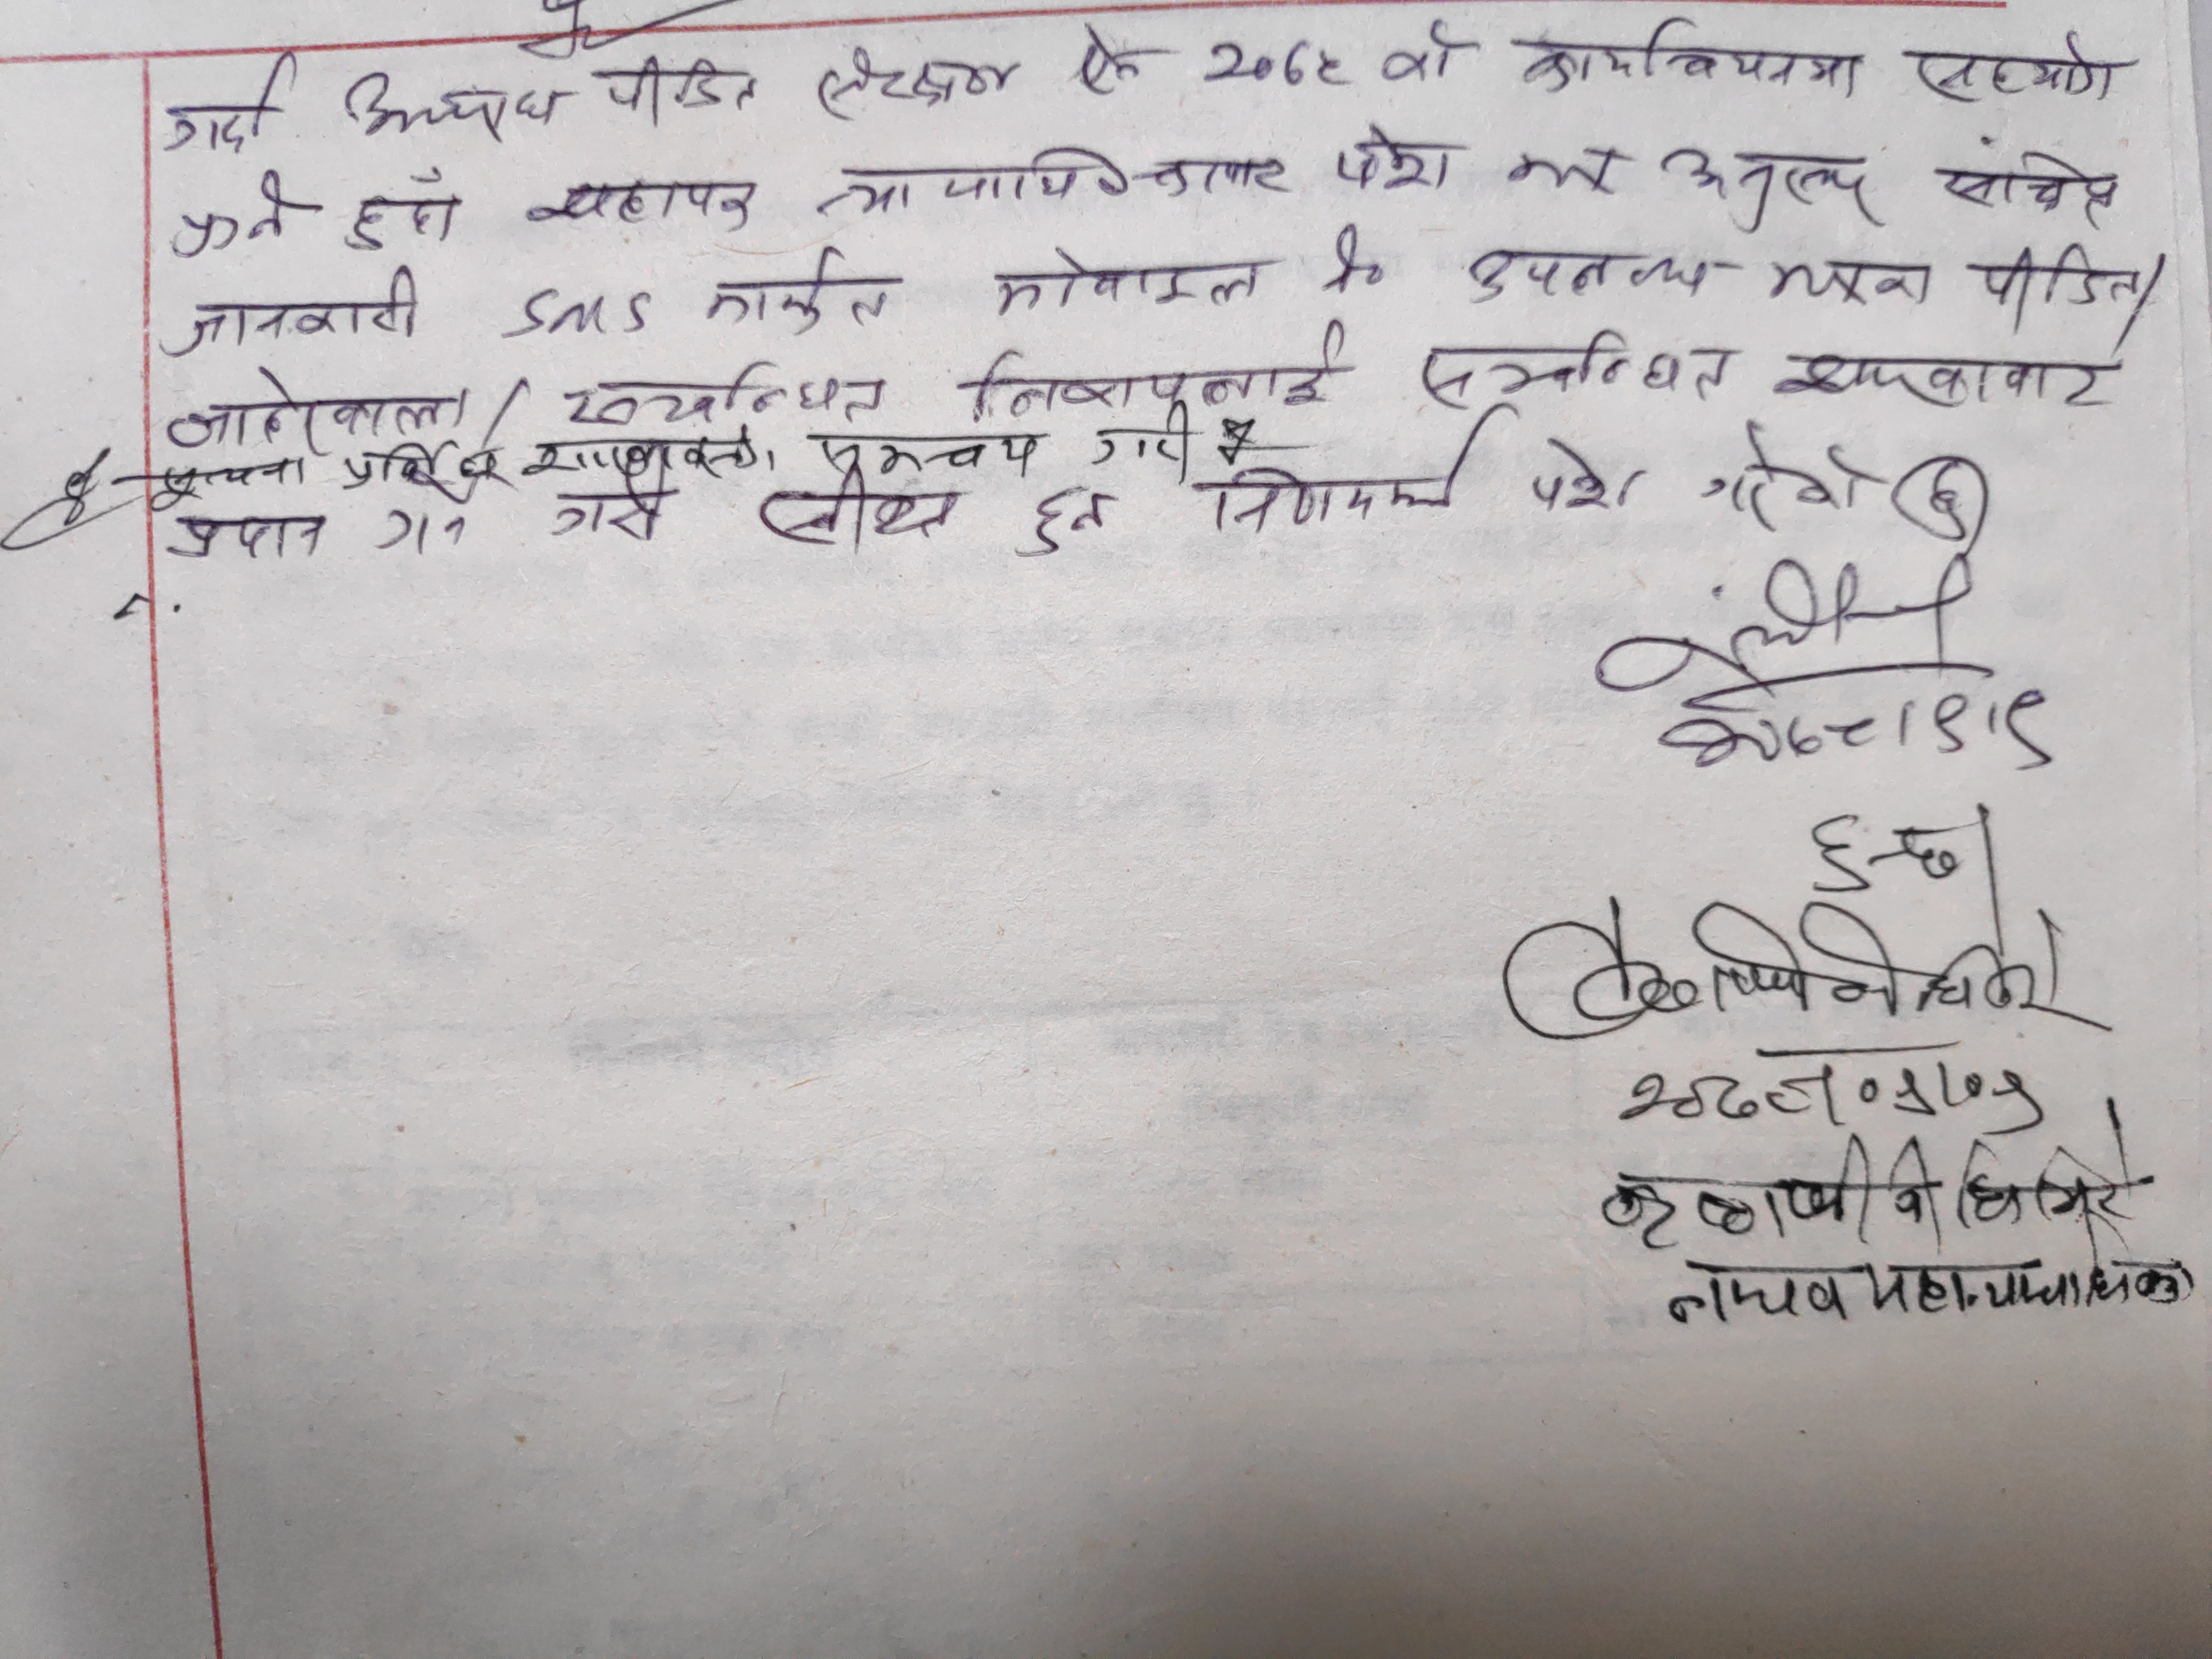text: (812, 132, 1299, 218), (1580, 1136, 1952, 1246), (1648, 1255, 2205, 1328), (1615, 1044, 2050, 1136), (953, 319, 1357, 418), (1505, 14, 1869, 99), (1411, 319, 1740, 408), (1766, 347, 2120, 418), (158, 362, 469, 443), (164, 261, 437, 352), (550, 357, 894, 429), (986, 234, 1271, 319), (1658, 136, 1881, 237), (1963, 237, 2174, 343), (695, 246, 913, 338), (1928, 138, 2139, 232), (1456, 242, 1749, 308), (1952, 1131, 2149, 1227), (1900, 28, 2141, 105), (1198, 462, 1456, 533), (334, 70, 556, 152), (752, 465, 967, 549), (808, 45, 1024, 122), (158, 56, 307, 160), (517, 174, 766, 232), (1757, 242, 1947, 317), (164, 169, 312, 265), (1195, 26, 1357, 108), (1524, 432, 1656, 523), (1324, 119, 1470, 199), (599, 54, 766, 122), (340, 166, 465, 253), (1500, 127, 1634, 204), (160, 511, 334, 568), (540, 484, 679, 549), (1379, 9, 1480, 98), (1062, 23, 1162, 105), (1022, 481, 1122, 563), (366, 505, 475, 549)
